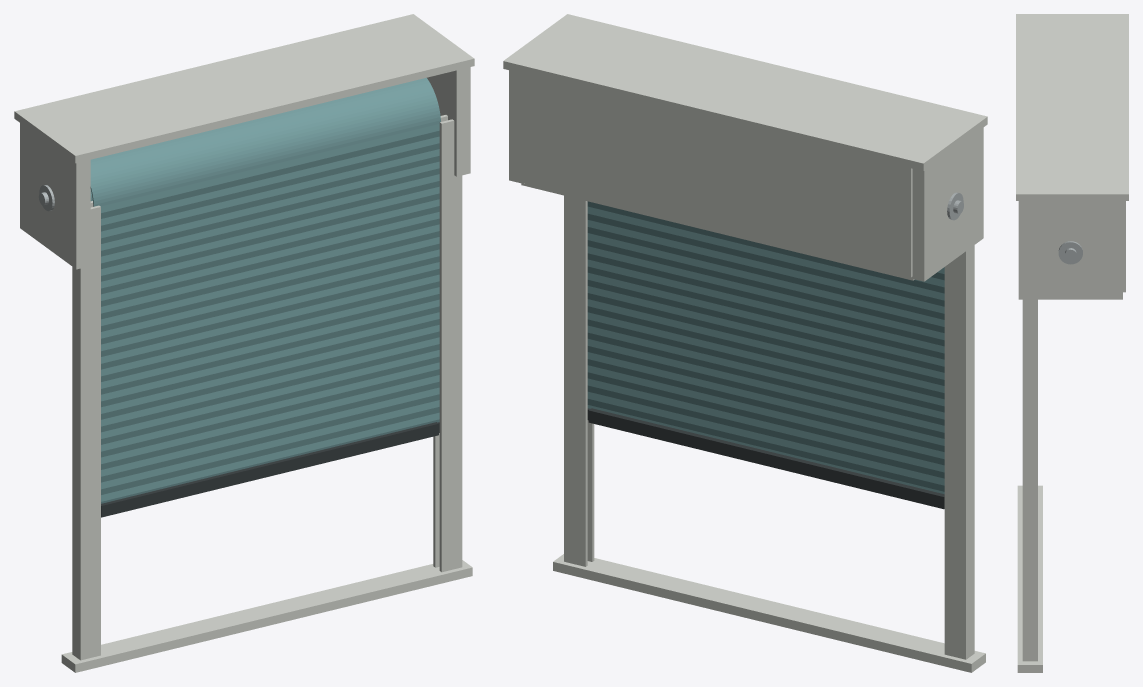
3 renders of one model, left to right at view 1: azimuth 30°, elevation 25°; view 2: azimuth 150°, elevation 25°; view 3: azimuth 270°, elevation 25°, orthographic. The views are drawn at different scales.
Parts seen in each view (by area): view 1: WholeContinuousCorrugatedAndSpirallyWoundCurtain, WholeProudHeaderRoof, WholeGroundFootOpenJambGuide_-1, WholeGroundFootOpenJambGuide_1, WholeThreshold, WholeHeaderSideCheek_-1, WholeCurtainLowerBar, WholeHeaderSideCheek_1; view 2: WholeContinuousCorrugatedAndSpirallyWoundCurtain, WholeHeaderBackPlate, WholeProudHeaderRoof, WholeGroundFootOpenJambGuide_-1, WholeGroundFootOpenJambGuide_1, WholeThreshold, WholeHeaderSideCheek_-1, WholeCurtainLowerBar, WholeHeaderLowerRearTie, WholeHeaderSideCheek_1; view 3: WholeProudHeaderRoof, WholeHeaderSideCheek_1, WholeGroundFootOpenJambGuide_1, WholeThreshold, WholeHeaderBoredBearing_1, WholeHeaderBackPlate.
Part boxes in pixels (box(x1,y1,x2,y2)): WholeContinuousCorrugatedAndSpirallyWoundCurtain: box(90, 78, 440, 503); WholeProudHeaderRoof: box(14, 14, 474, 163); WholeGroundFootOpenJambGuide_-1: box(72, 201, 100, 660); WholeGroundFootOpenJambGuide_1: box(433, 115, 462, 572); WholeThreshold: box(61, 560, 472, 672); WholeHeaderSideCheek_-1: box(20, 123, 90, 269); WholeCurtainLowerBar: box(101, 422, 438, 517); WholeHeaderSideCheek_1: box(427, 67, 470, 176); WholeContinuousCorrugatedAndSpirallyWoundCurtain: box(587, 201, 944, 494); WholeHeaderBackPlate: box(519, 72, 912, 277); WholeProudHeaderRoof: box(503, 14, 987, 171); WholeGroundFootOpenJambGuide_-1: box(944, 245, 974, 659); WholeGroundFootOpenJambGuide_1: box(564, 195, 594, 566); WholeThreshold: box(553, 554, 985, 672); WholeHeaderSideCheek_-1: box(909, 127, 983, 281); WholeCurtainLowerBar: box(588, 408, 944, 509); WholeHeaderLowerRearTie: box(521, 183, 914, 280); WholeHeaderSideCheek_1: box(509, 70, 524, 183); WholeProudHeaderRoof: box(1016, 14, 1128, 200); WholeHeaderSideCheek_1: box(1018, 201, 1122, 299); WholeGroundFootOpenJambGuide_1: box(1022, 299, 1037, 661); WholeThreshold: box(1017, 485, 1042, 672); WholeHeaderBoredBearing_1: box(1058, 241, 1082, 264); WholeHeaderBackPlate: box(1123, 201, 1125, 292).
Bounding box in the file's own units: 2.58 × 3.14 × 0.67.
